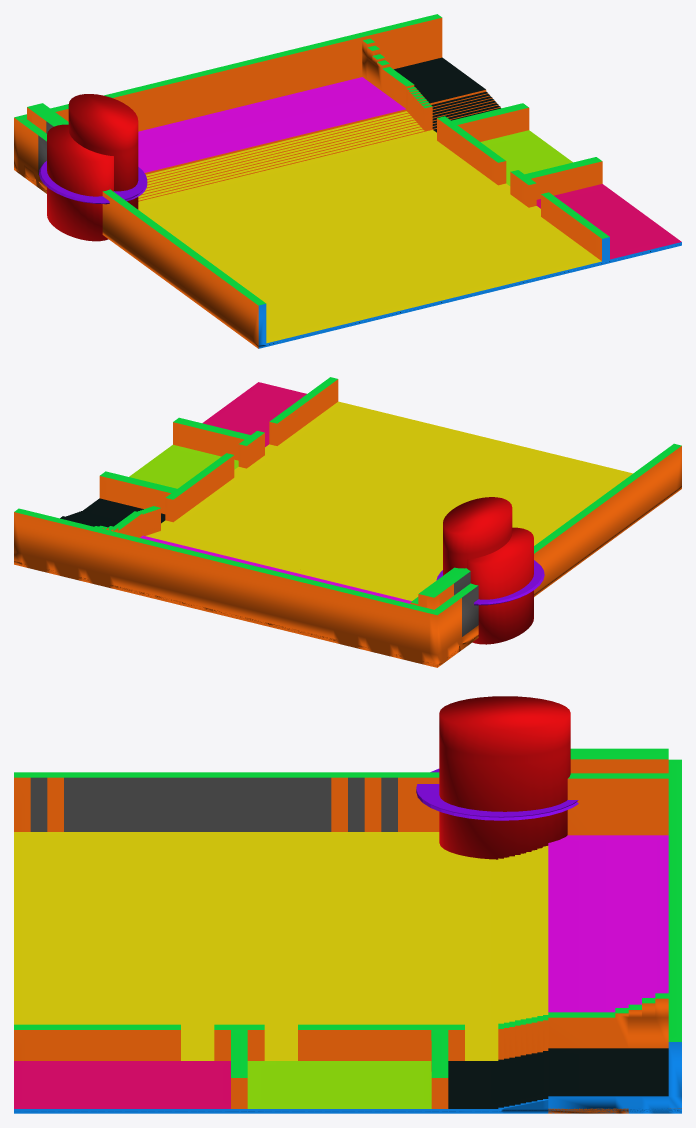
File: plataforma2.fbx
The picture shows the model from 3 angles, top to bottom: view 1: azimuth 30°, elevation 25°; view 2: azimuth 150°, elevation 25°; view 3: azimuth 270°, elevation 25°; orthographic projection. The views are drawn at different scales.
Visible parts, largest first — view 1: Cube, Cylinder.001; view 2: Cube, Cylinder.001; view 3: Cube, Cylinder.001.
Part boxes in pixels (bbox=[...]): Cube: bbox=[14, 14, 681, 348]; Cylinder.001: bbox=[47, 94, 138, 241]; Cube: bbox=[14, 377, 681, 667]; Cylinder.001: bbox=[443, 497, 533, 644]; Cube: bbox=[14, 748, 681, 1113]; Cylinder.001: bbox=[439, 696, 570, 859].
Bounding box in the file's own units: 1194 × 1112 × 264.
